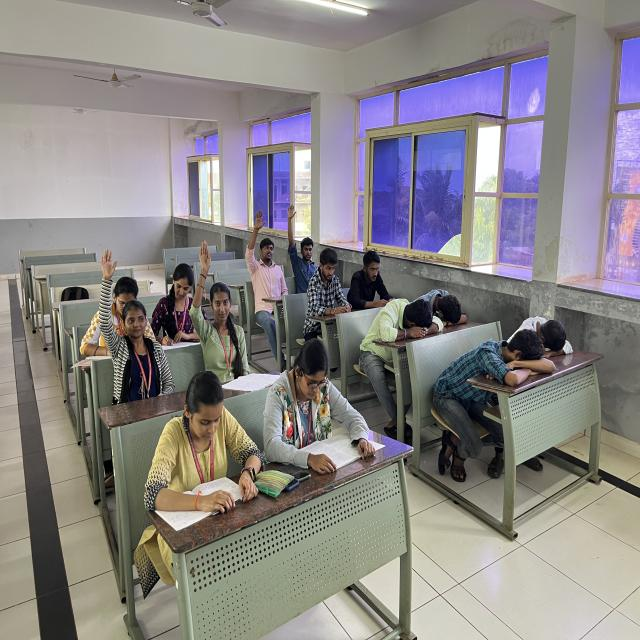Hand Rising: (93, 240, 176, 412), (189, 237, 254, 373), (246, 202, 283, 310), (281, 197, 323, 285)
Reading: (144, 358, 269, 519), (254, 334, 378, 479)
Sleeping: (438, 326, 557, 404), (360, 291, 444, 354), (498, 307, 580, 363), (410, 280, 470, 325)
Writing: (148, 260, 208, 352)
